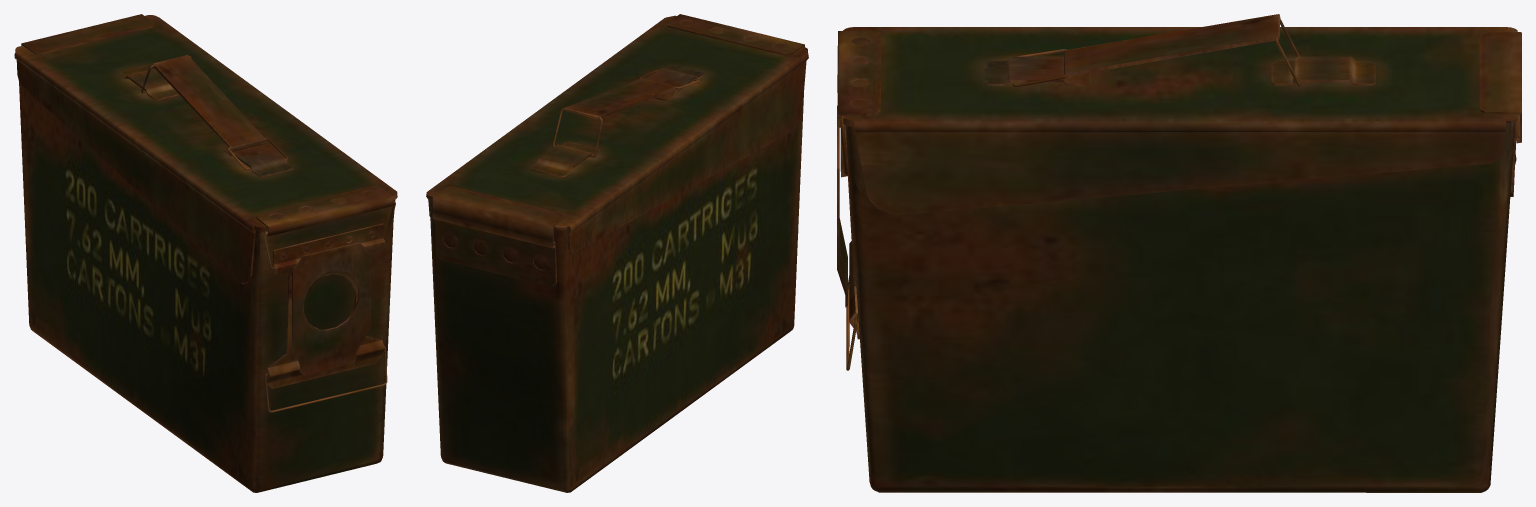
Rendered from ammo_box-C57BdZWz.glb.
3 renders of one model, left to right at view 1: azimuth 30°, elevation 25°; view 2: azimuth 150°, elevation 25°; view 3: azimuth 270°, elevation 25°, orthographic. The views are drawn at different scales.
Parts seen in each view (by area): view 1: ammo_box, ammo_box_handle, ammo_box_latch; view 2: ammo_box, ammo_box_handle; view 3: ammo_box, ammo_box_handle.
Part boxes in pixels (x1,y1,x2,y2): ammo_box: (14, 14, 397, 492); ammo_box_handle: (152, 55, 265, 149); ammo_box_latch: (264, 345, 387, 412); ammo_box: (426, 14, 808, 492); ammo_box_handle: (564, 78, 676, 119); ammo_box: (837, 27, 1521, 492); ammo_box_handle: (1064, 14, 1280, 76).
Size of the model in its own units: 0.0865 by 0.1773 by 0.2576.
Materials: 1 (1 with a texture image).
